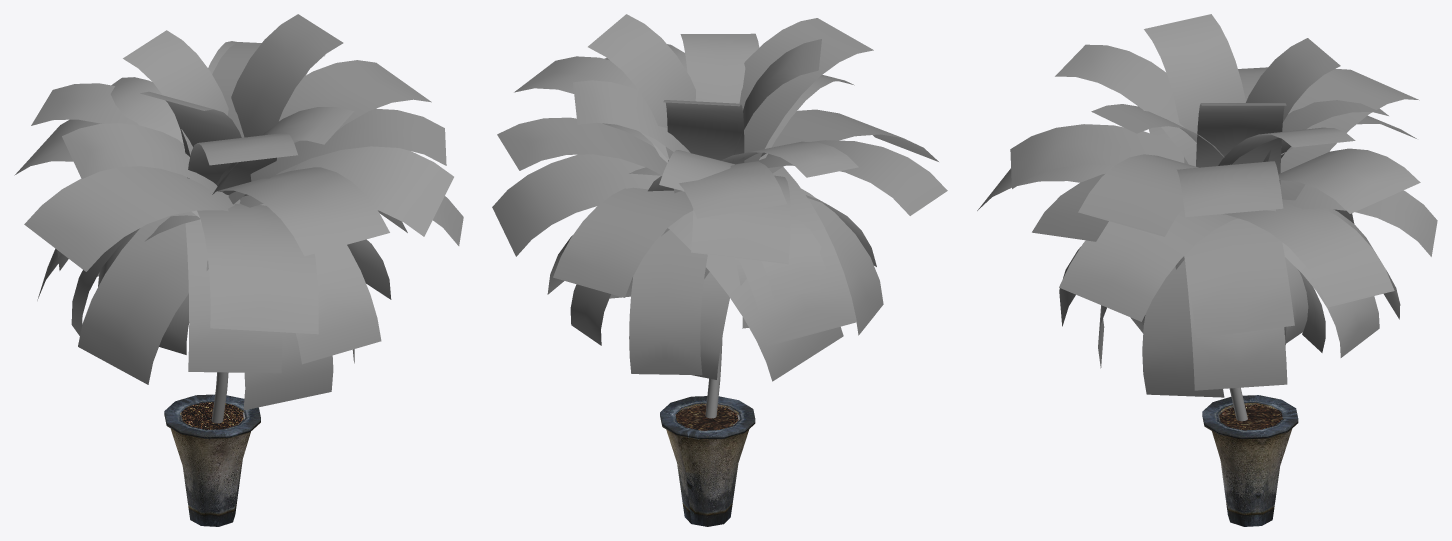
Rendered from Dracaena_leaf_lod1.fbx.
3 views of the same model, side by side, from view 1: azimuth 30°, elevation 25°; view 2: azimuth 150°, elevation 25°; view 3: azimuth 270°, elevation 25° (orthographic).
Visible parts, largest first — view 1: Dracaena_leaf_lod1; view 2: Dracaena_leaf_lod1; view 3: Dracaena_leaf_lod1.
Boxes of the visible parts, left/top/right/bottom form: Dracaena_leaf_lod1: left=14, top=14, right=463, bottom=526; Dracaena_leaf_lod1: left=492, top=14, right=947, bottom=526; Dracaena_leaf_lod1: left=977, top=14, right=1437, bottom=526.
Bounding box in the file's own units: 112 × 128 × 115.
Materials: 3 (1 with a texture image).
